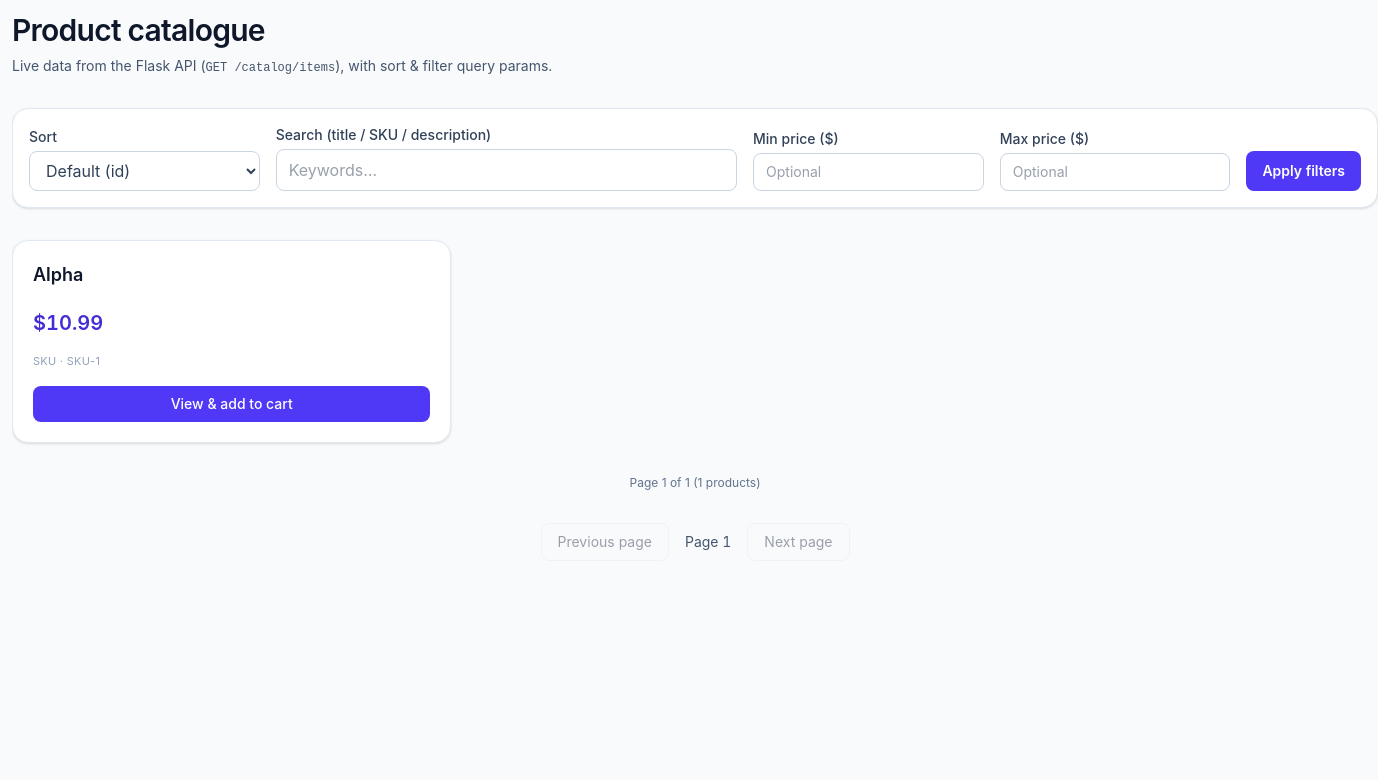
it: CataloguePage › shows catalogue error banner when refetch rejects then hides after recovery
Expected: the heading "Alpha" is shown, [33,264,83,285]
Select "Price high → low" in the dropdown named "Sort catalogue": (144, 171) [29,151,260,191]
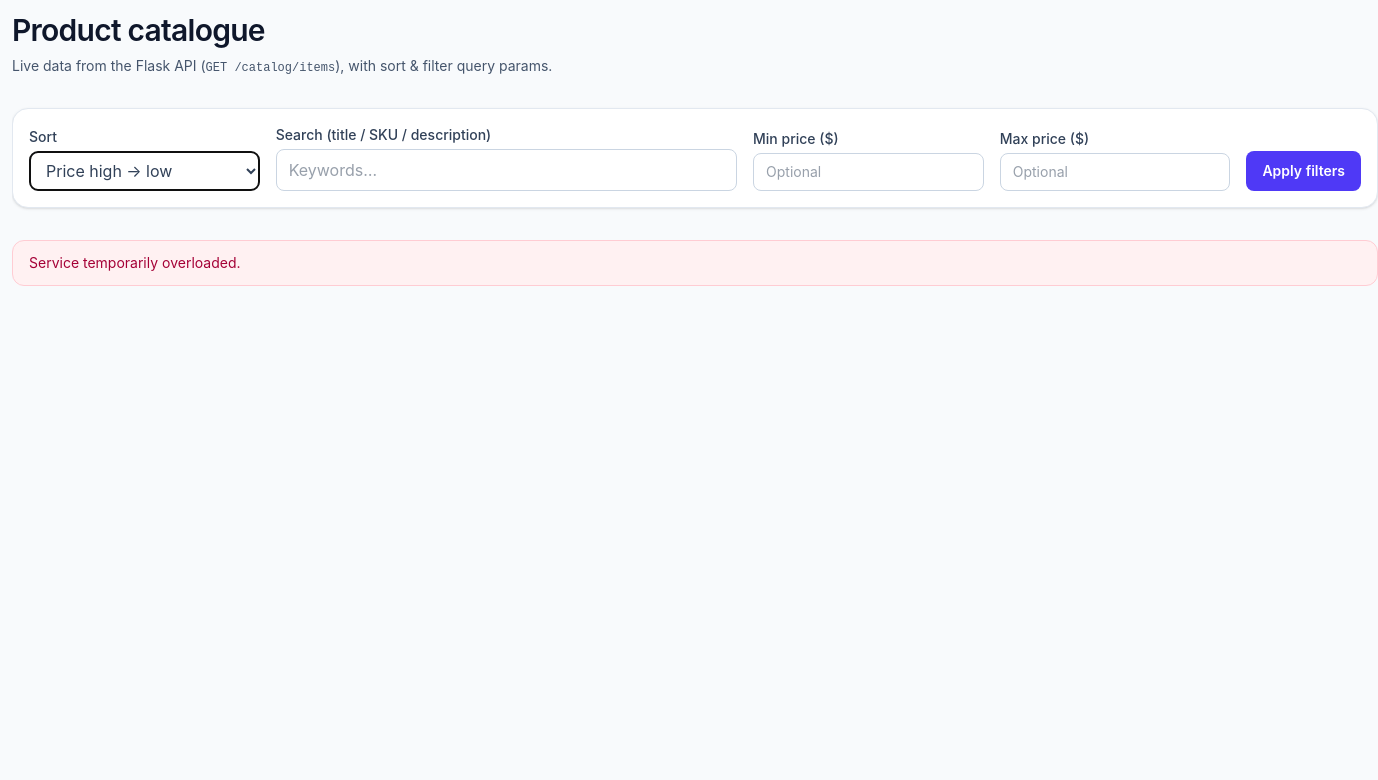
Now the text "Service temporarily overloaded." is shown, box [12,240,1377,286]
Select "Default (id)" in the dropdown named "Sort catalogue": (144, 171) [29,151,260,191]
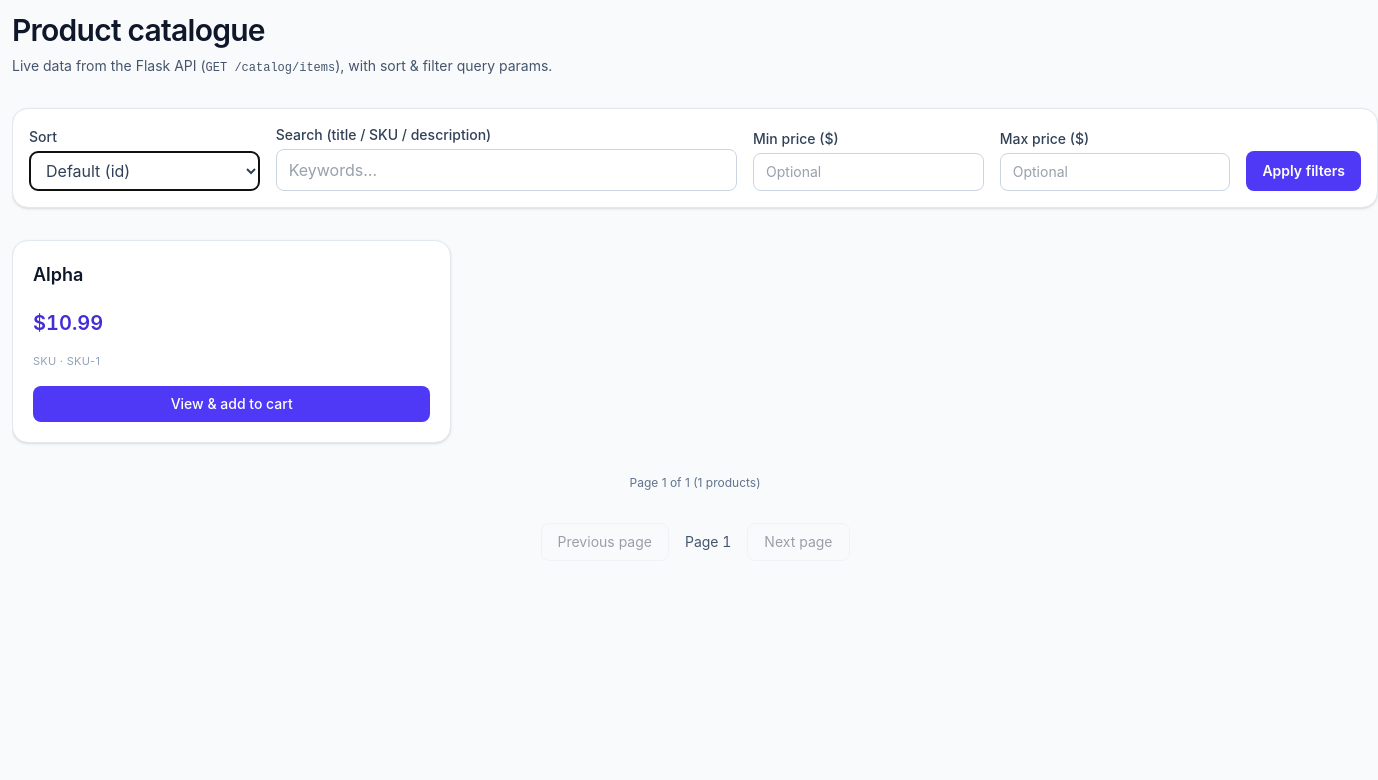
Now the heading "Alpha" is shown, box [33,264,83,285]
Now the text "Service temporarily overloaded" is gone
